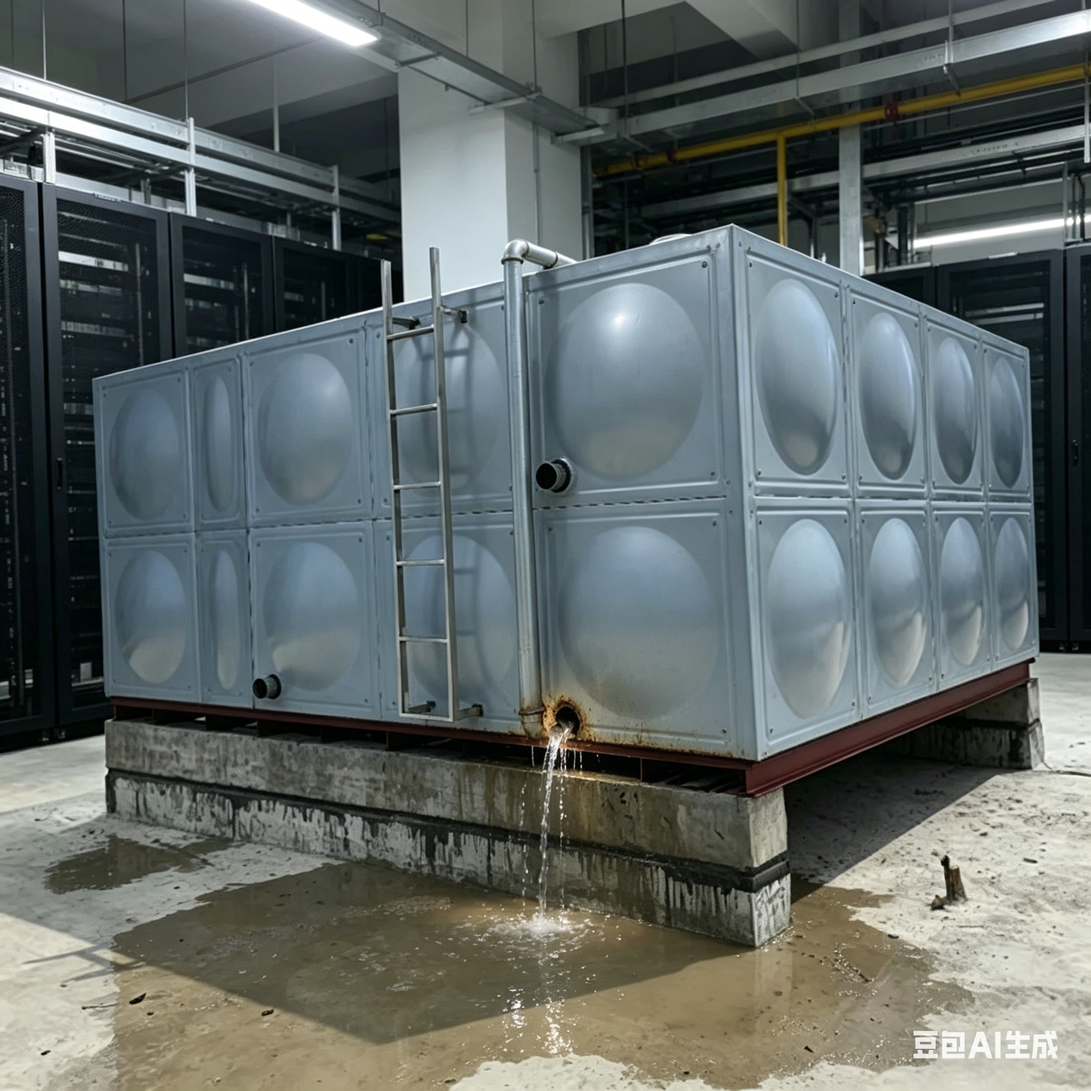Leakage: (124, 913, 469, 1087), (630, 878, 933, 1075), (493, 684, 622, 1083), (261, 850, 473, 908), (56, 824, 176, 886)
